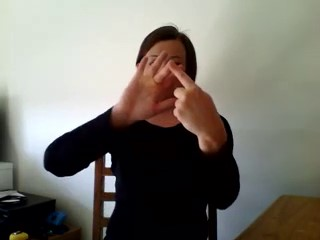I: (115, 43, 212, 136)
